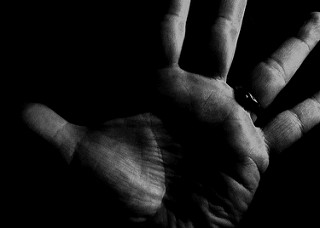palm: (122, 87, 253, 222)
